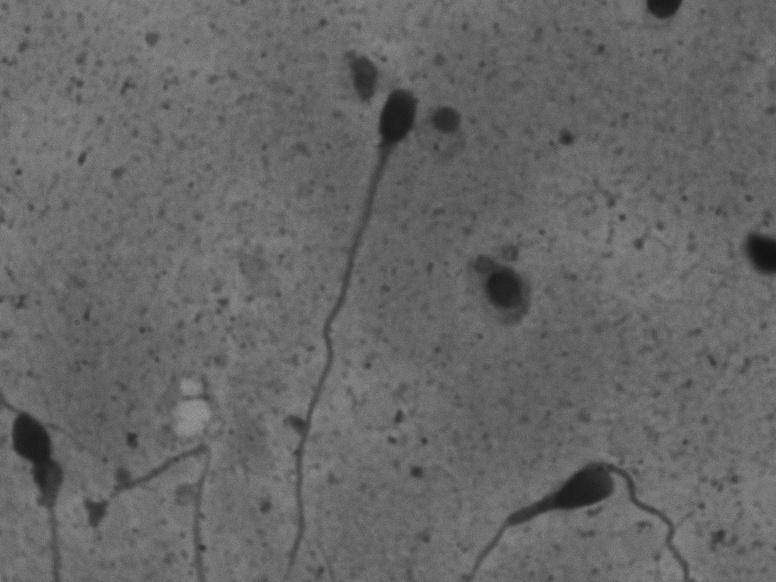Abnormal: (266, 78, 431, 573), (468, 435, 714, 568)
